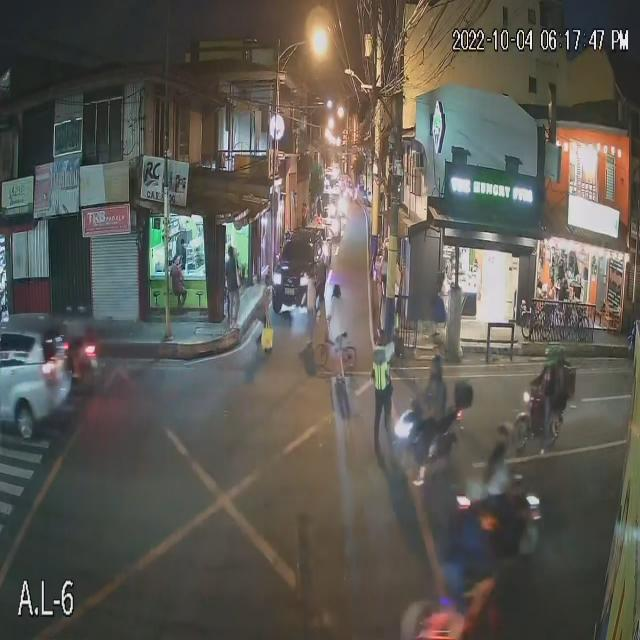helmet: (542, 346, 566, 359), (489, 426, 514, 437)
motorcycle: (454, 497, 547, 554), (399, 412, 466, 474), (519, 387, 571, 449), (64, 336, 118, 388)
rider: (426, 380, 443, 446), (491, 444, 507, 510), (547, 372, 558, 419)
